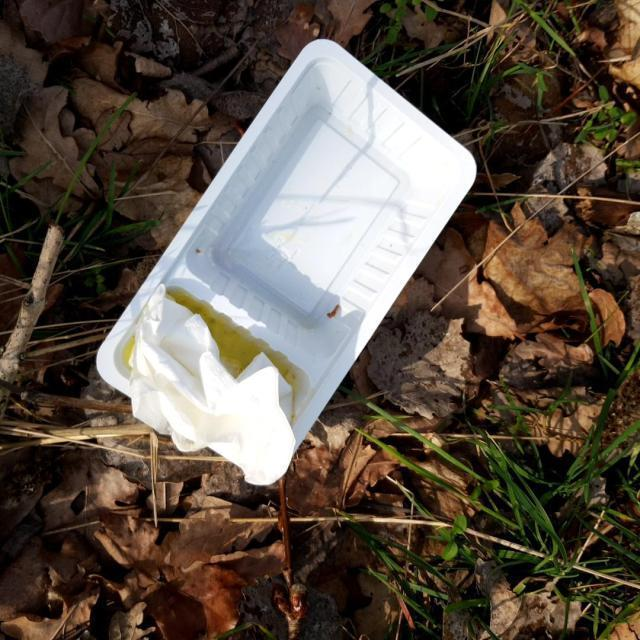Plastic: (91, 33, 478, 490)
